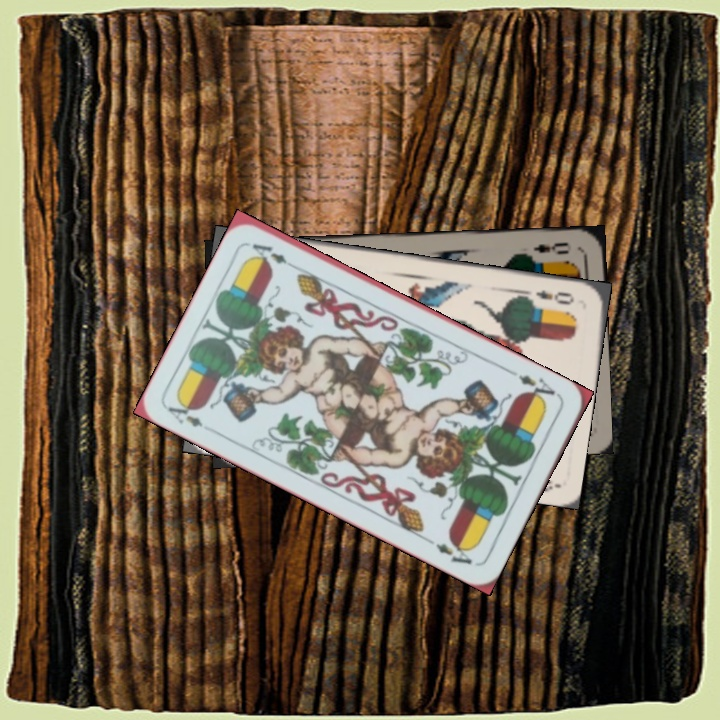EA: (514, 370, 563, 406), (164, 396, 205, 430)
EO: (520, 238, 571, 262), (532, 286, 577, 308)
